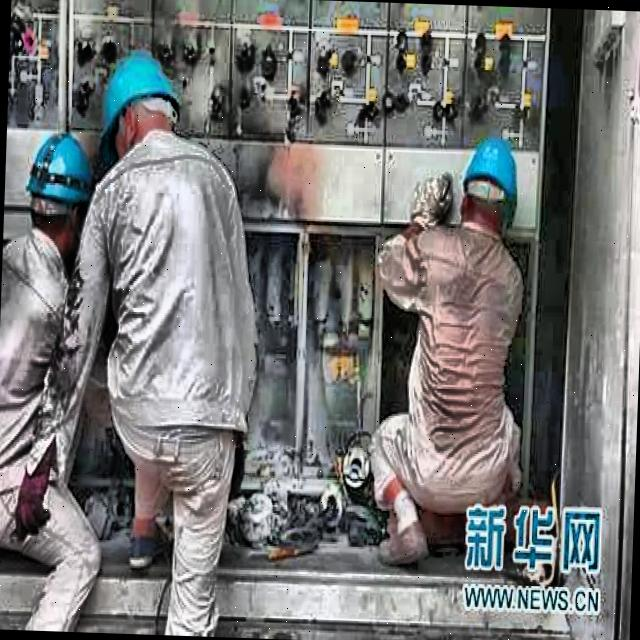helmet: (96, 50, 186, 170), (29, 128, 99, 256), (454, 140, 520, 242)
